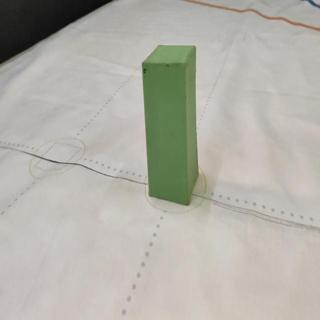greenbox: (139, 44, 199, 208)
